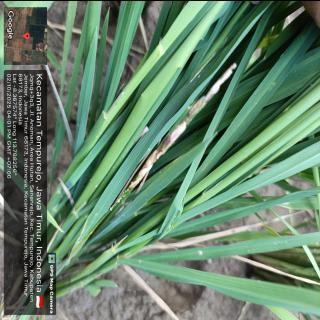Busuk-Bulir: (129, 114, 191, 188), (206, 70, 230, 99)
